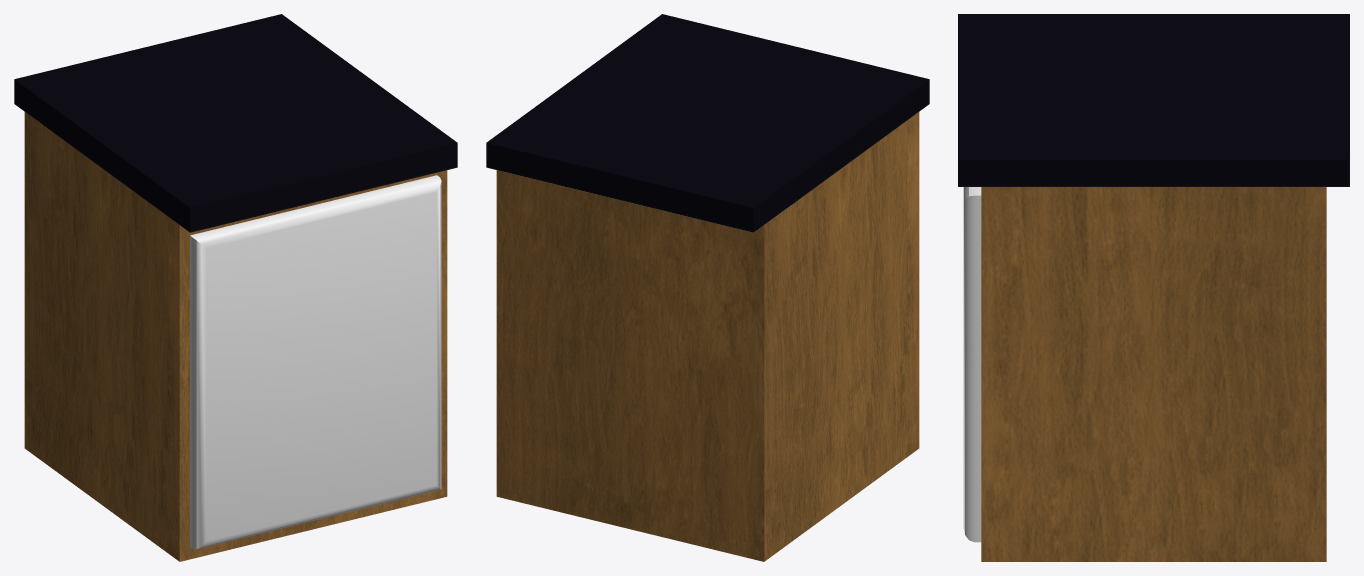
The model's file is SM_kitchen_top_C.fbx.
3 views of the same model, side by side, from view 1: azimuth 30°, elevation 25°; view 2: azimuth 150°, elevation 25°; view 3: azimuth 270°, elevation 25° (orthographic). The views are drawn at different scales.
Visible parts, largest first — view 1: SM_kitchen_top_C; view 2: SM_kitchen_top_C; view 3: SM_kitchen_top_C.
Boxes of the visible parts, x1,y1,x2,y2 form: SM_kitchen_top_C: (14,14,457,561); SM_kitchen_top_C: (486,14,929,561); SM_kitchen_top_C: (958,14,1349,561).
Size of the model in its own units: 61.9 by 80 by 70.54.
